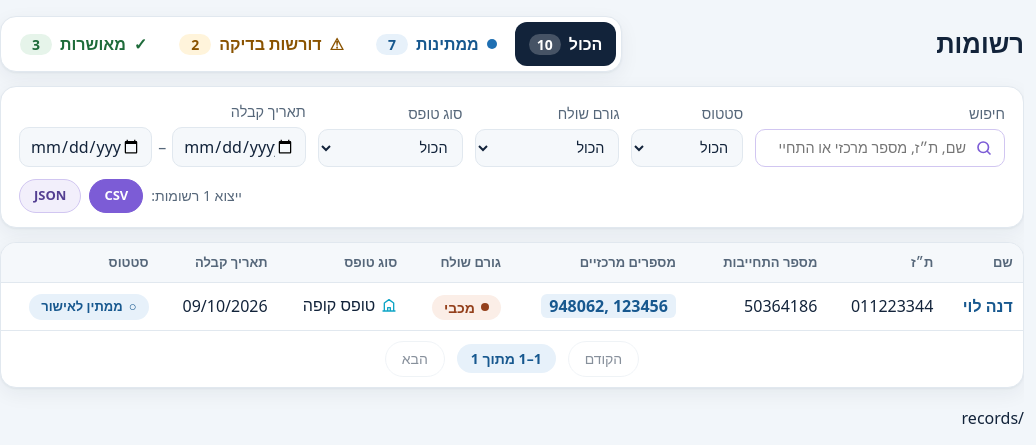
Test case: RecordsFilters › the senders come from the closed list
Select "מאוחדת" in the dropdown labelled "גורם שולח": (547, 148) [474, 129, 619, 167]
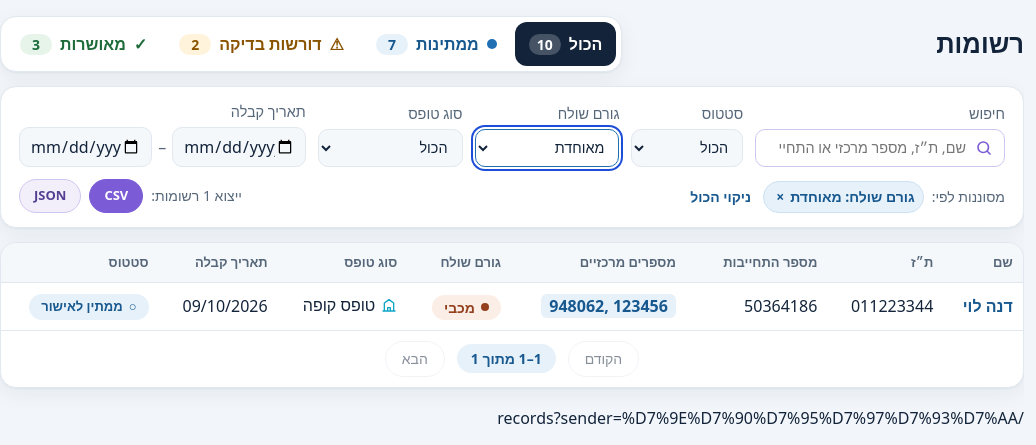
Result: the text with test id "where" reads "/records?sender=%D7%9E%D7%90%D7%95%D7%97%D7%93%D7%AA" at [497, 407, 1024, 429]
